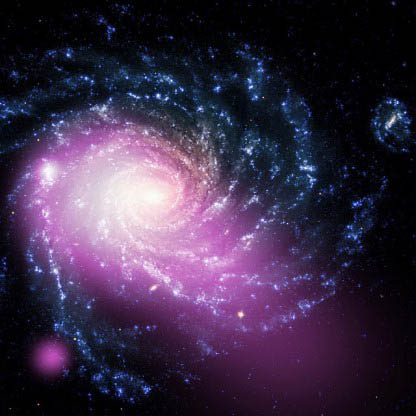NGC 1232: (7, 11, 416, 387)
